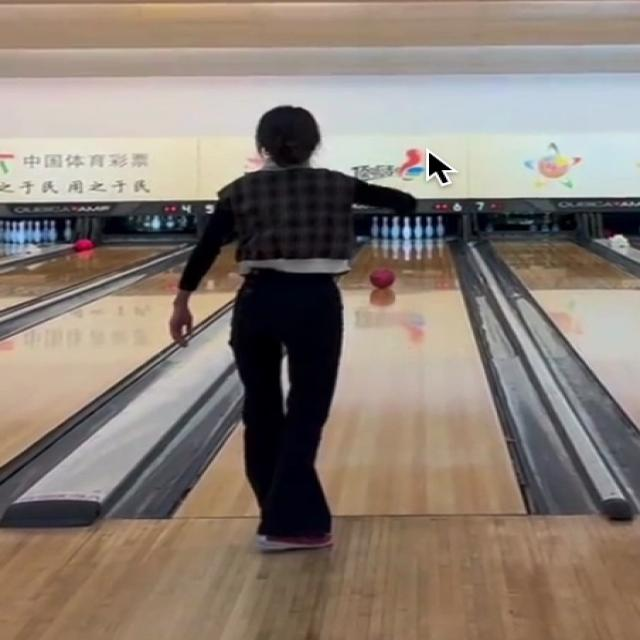alley: (316, 238, 525, 517), (176, 429, 256, 522)
balls: (370, 268, 396, 290)
bottle: (371, 215, 445, 242)
